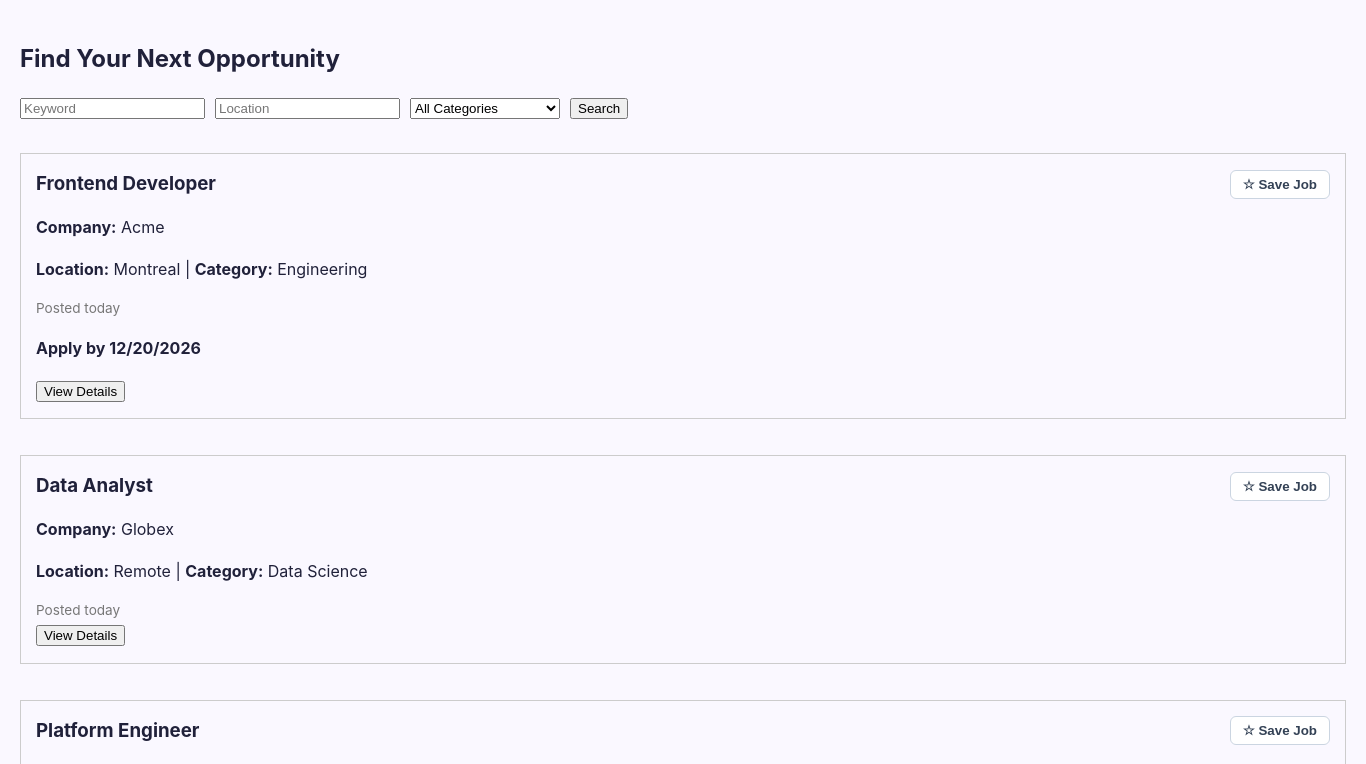
it: JobList (Find Jobs) › saving jobs › lets a job seeker save a job
Expected: the heading "Frontend Developer" is shown, [36,169,216,199]
What coordinates should you click on to do the following:
click the button "☆ Save Job" in the row of "Frontend Developer"
I would click on:
 (1280, 184)
Its box is [1230,170,1330,199].
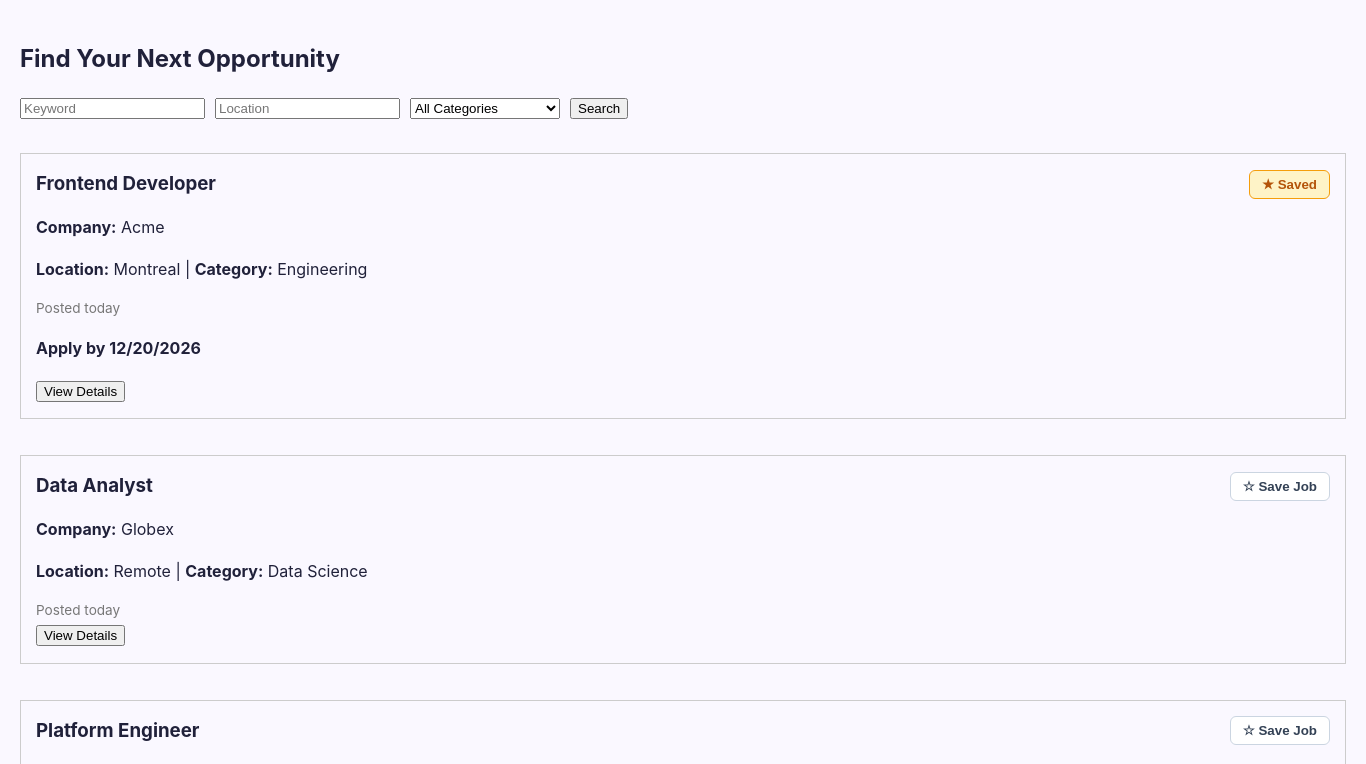
Result: the button "★ Saved" is shown at [1249,170,1330,199]
